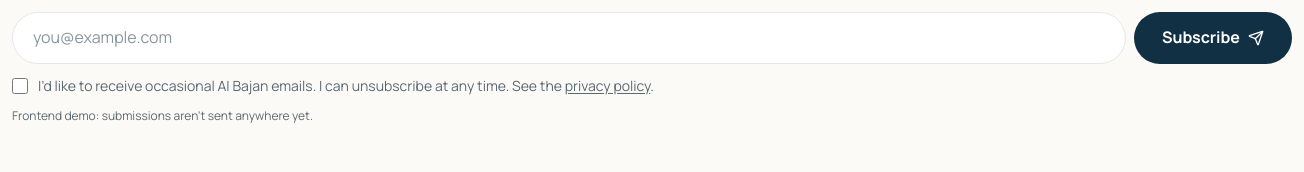
Test case: forms › newsletter is honest in demo mode
Type "visitor@example.com" into the field named "Email address" at (569, 38), box [12,12,1126,64]
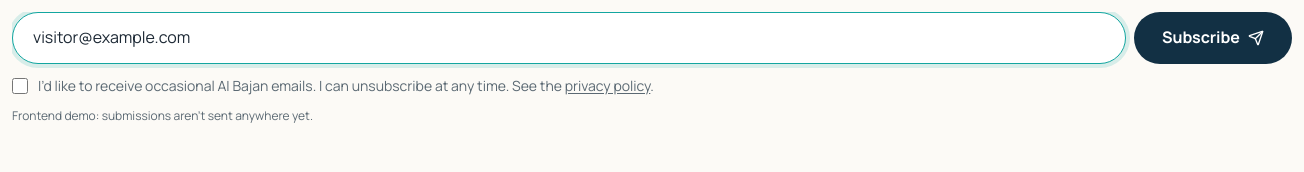
Click the checkbox at (20, 86), box [12,78,28,94]
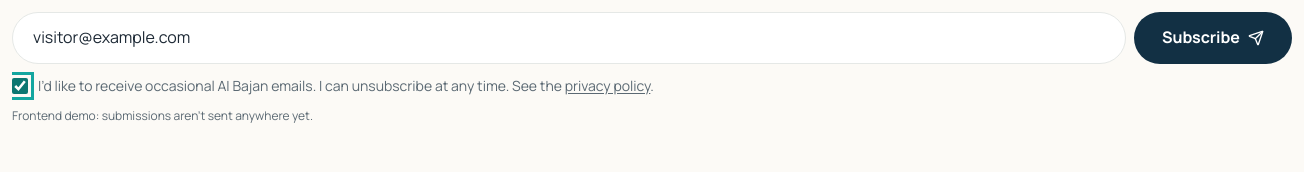
Click the button "Subscribe" at (1213, 38), box [1134,12,1292,64]
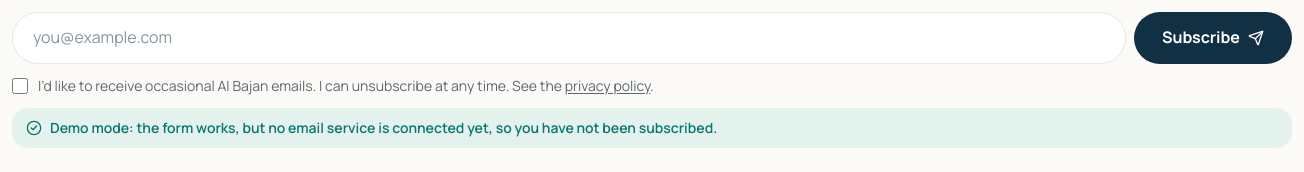
Check: the text "you have not been subscribed" is shown, box [50,118,717,137]
